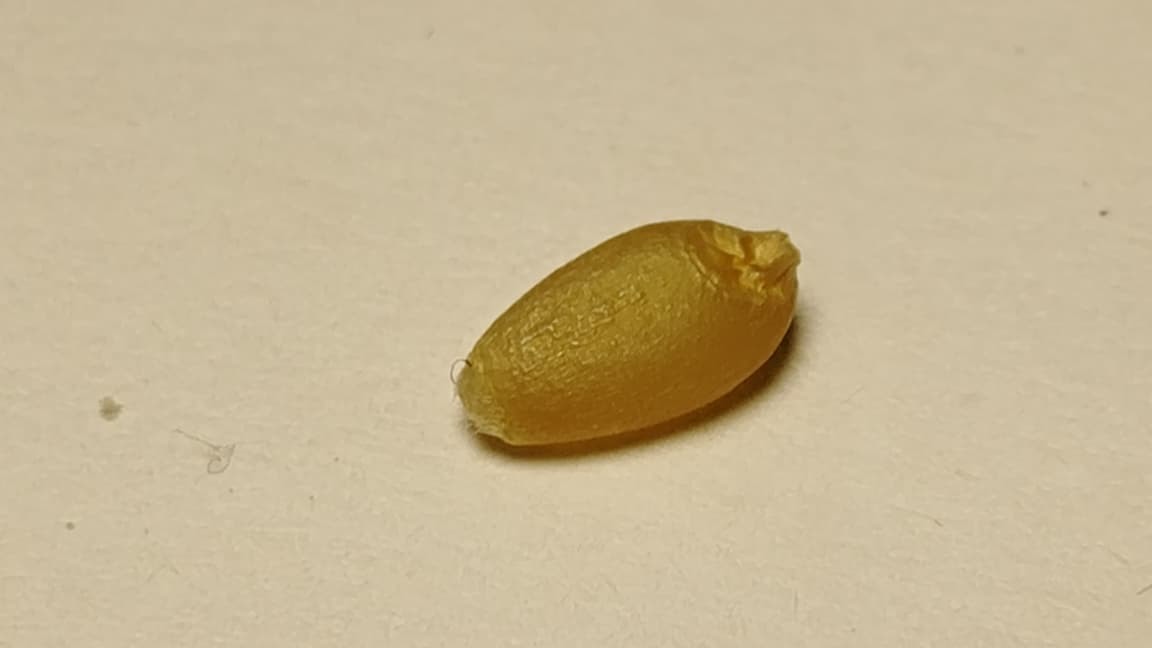healthy: (458, 220, 798, 444)
